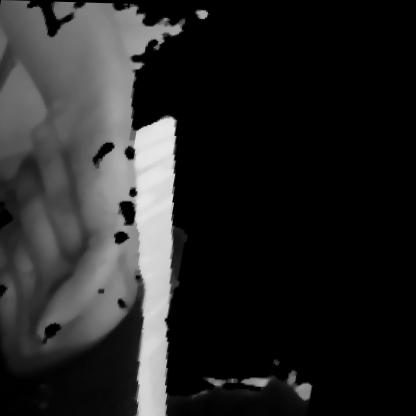handshake: (0, 10, 232, 415)
